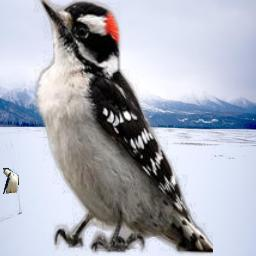Swallow: (3, 167, 19, 194)
Woodpecker: (34, 0, 213, 255)
